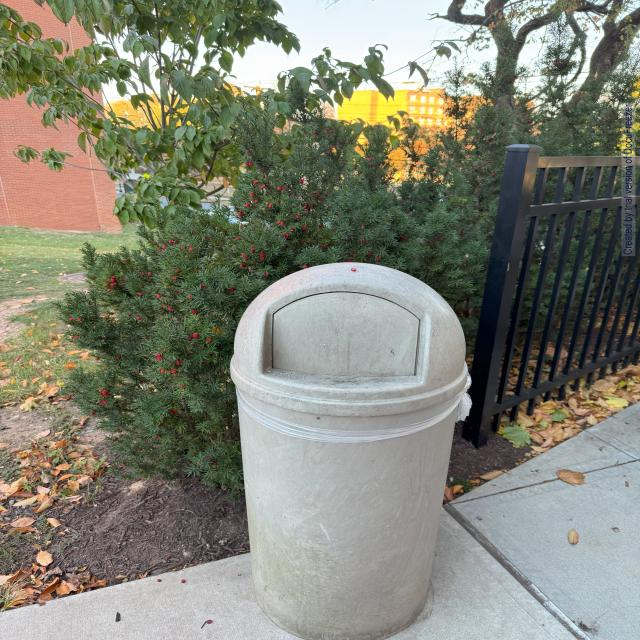Trash bin: (214, 251, 457, 639)
